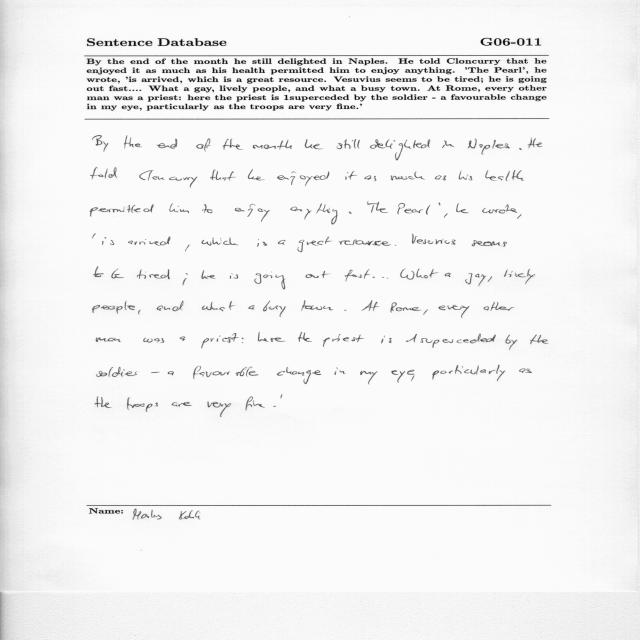word: (406, 333, 496, 348), (370, 139, 430, 161), (433, 365, 506, 381), (290, 203, 338, 225), (139, 170, 197, 188), (193, 366, 259, 379), (90, 204, 154, 217), (277, 367, 321, 384), (277, 172, 329, 186), (468, 139, 510, 155), (234, 204, 270, 222), (201, 333, 239, 348), (255, 272, 286, 290), (93, 301, 135, 314), (323, 334, 364, 347), (298, 237, 333, 252), (412, 234, 456, 245), (504, 269, 535, 284), (127, 397, 158, 412), (485, 170, 524, 181), (97, 367, 138, 377), (439, 305, 470, 318), (398, 203, 431, 215), (253, 140, 292, 150), (207, 401, 231, 417), (128, 237, 170, 246), (263, 301, 286, 317), (339, 239, 391, 246), (345, 269, 371, 282), (137, 269, 170, 279), (202, 301, 234, 311), (301, 301, 333, 311), (482, 205, 517, 214), (91, 168, 117, 180), (210, 169, 236, 181), (391, 303, 422, 313), (391, 172, 425, 181), (202, 238, 239, 246), (258, 333, 286, 343), (484, 302, 515, 311), (465, 273, 486, 286), (93, 135, 109, 152), (157, 301, 184, 311), (246, 397, 265, 411), (472, 240, 507, 247), (124, 136, 142, 149), (360, 371, 378, 384), (367, 202, 388, 213), (337, 139, 360, 149), (223, 139, 243, 150), (417, 269, 439, 279), (157, 139, 178, 149), (95, 396, 112, 408), (169, 203, 189, 213), (248, 169, 265, 180), (197, 139, 211, 152), (391, 370, 405, 383), (305, 140, 323, 150), (506, 335, 518, 350), (530, 335, 549, 344), (362, 301, 379, 311), (306, 271, 330, 278), (401, 269, 415, 280), (528, 138, 542, 148), (298, 332, 312, 342), (459, 171, 472, 181), (456, 203, 469, 213), (111, 269, 124, 279), (202, 270, 216, 279), (96, 337, 121, 342), (345, 171, 357, 180), (143, 338, 164, 343), (202, 204, 213, 213), (443, 141, 455, 149), (102, 237, 114, 245), (94, 267, 103, 277), (381, 336, 392, 344), (335, 367, 346, 375), (407, 370, 415, 381), (257, 239, 267, 247), (172, 402, 192, 406), (182, 273, 188, 286), (365, 176, 377, 182), (519, 368, 532, 373), (435, 176, 446, 181), (230, 273, 238, 279), (185, 245, 190, 252), (278, 240, 285, 245), (373, 277, 388, 279), (423, 309, 428, 315), (517, 214, 522, 219), (180, 336, 185, 341), (371, 205, 374, 213), (445, 273, 451, 277), (488, 276, 492, 282), (249, 306, 255, 310), (168, 371, 174, 375), (444, 213, 448, 218), (138, 310, 141, 315), (93, 234, 96, 238), (242, 338, 244, 343), (438, 203, 441, 206), (151, 372, 160, 373), (519, 148, 522, 150), (349, 212, 352, 214), (344, 310, 347, 311), (273, 406, 276, 407), (281, 396, 282, 399), (395, 245, 396, 246)
